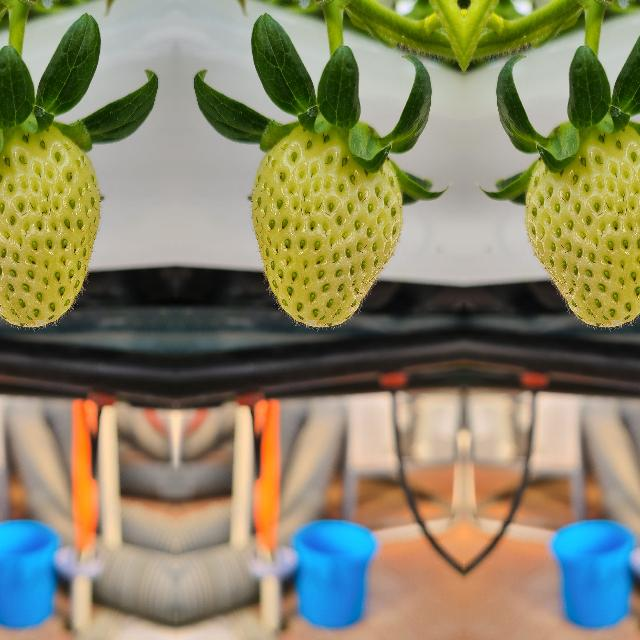Health_25: (249, 125, 401, 329), (525, 125, 640, 329), (0, 125, 101, 329)
